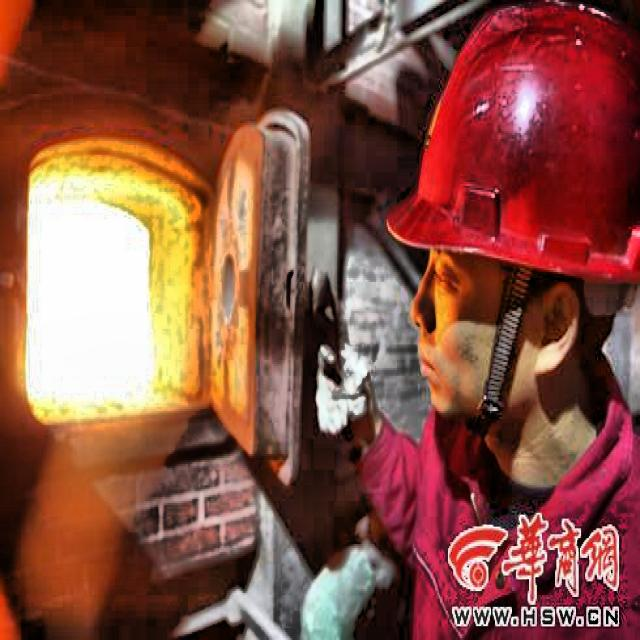helmet: (376, 6, 636, 466)
